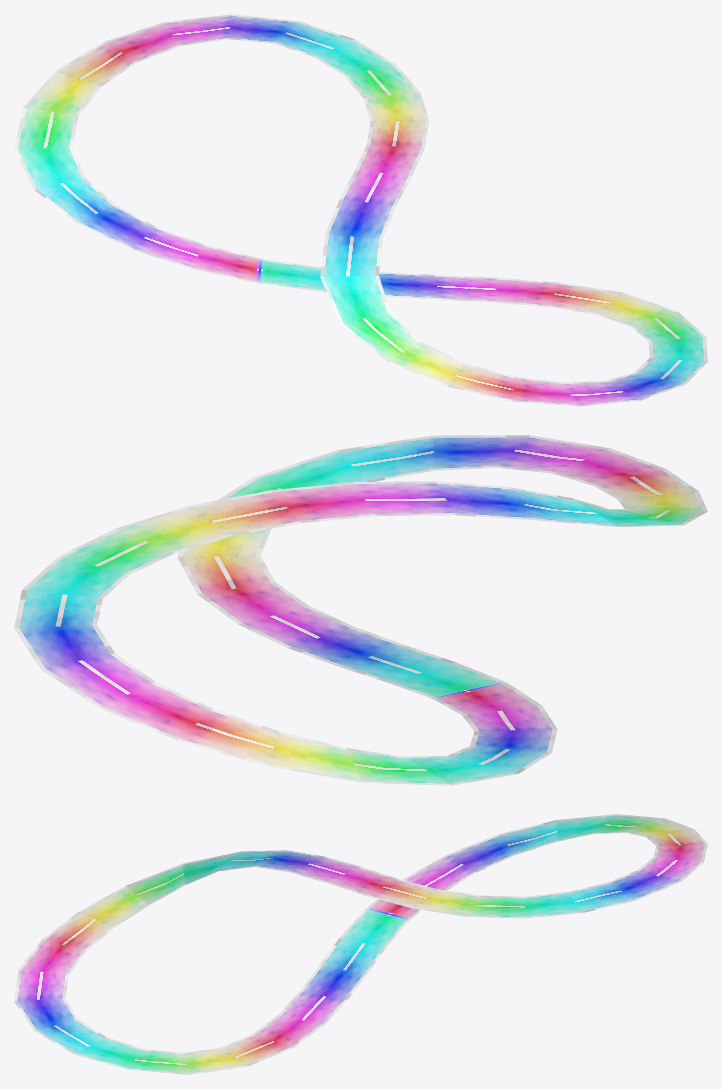
The model's file is Route03.obj.
3 renders of one model, top to bottom at view 1: azimuth 30°, elevation 25°; view 2: azimuth 150°, elevation 25°; view 3: azimuth 270°, elevation 25°, orthographic. The views are drawn at different scales.
Parts seen in each view (by area): view 1: Track2; view 2: Track2; view 3: Track2.
Part boxes in pixels (bbox=[...]): Track2: bbox=[14, 14, 707, 406]; Track2: bbox=[14, 435, 707, 785]; Track2: bbox=[14, 814, 707, 1074].
Bounding box in the file's own units: 342 × 102 × 534.
1 material, 1 textured.
